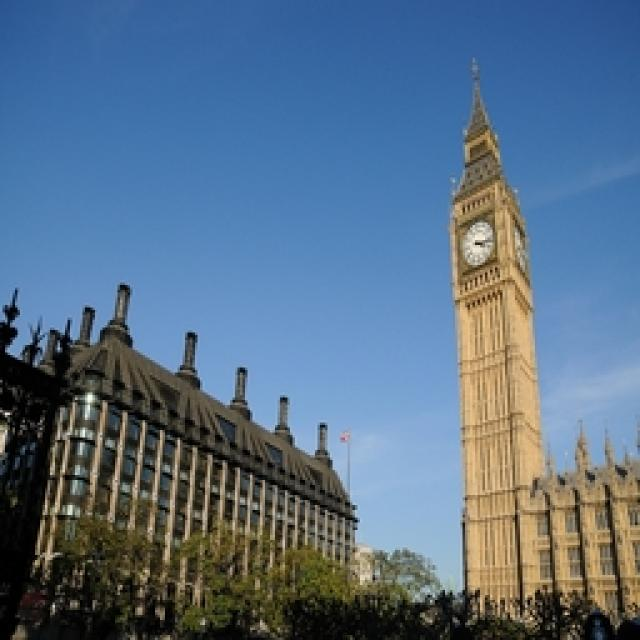Abbey: (444, 51, 639, 639)
